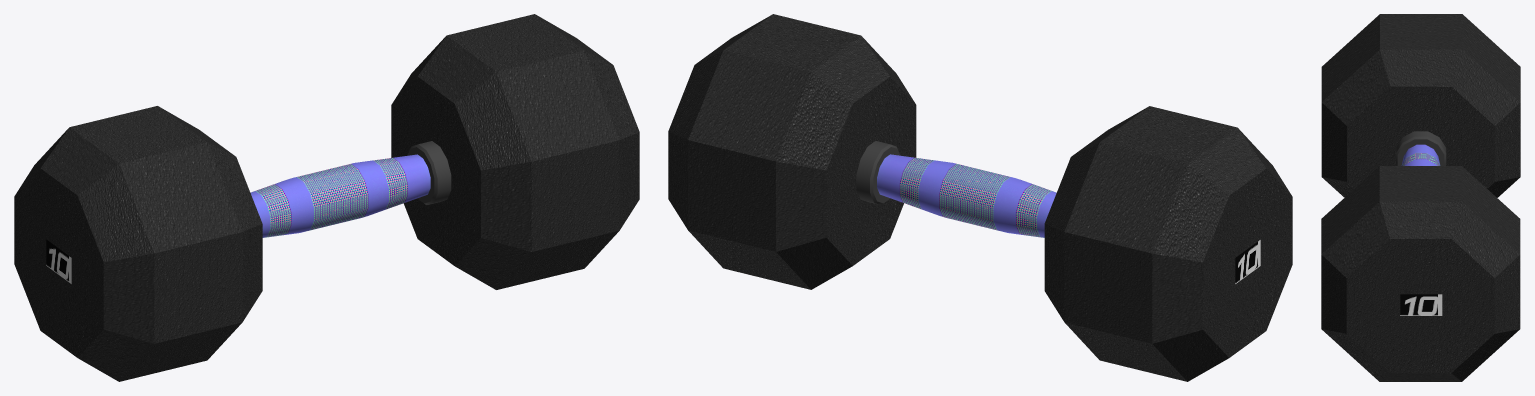
The model's file is Dumbbell_10kG.FBX.
The picture shows the model from 3 angles, left to right: view 1: azimuth 30°, elevation 25°; view 2: azimuth 150°, elevation 25°; view 3: azimuth 270°, elevation 25°; orthographic projection. The views are drawn at different scales.
Parts seen in each view (by area): view 1: Dumbbell_10kG; view 2: Dumbbell_10kG; view 3: Dumbbell_10kG.
Boxes of the visible parts, x1=… form: Dumbbell_10kG: x1=14, y1=14, x2=639, y2=381; Dumbbell_10kG: x1=668, y1=14, x2=1292, y2=381; Dumbbell_10kG: x1=1321, y1=14, x2=1520, y2=381.
Bounding box in the file's own units: 0.3655 × 0.1424 × 0.1421.
